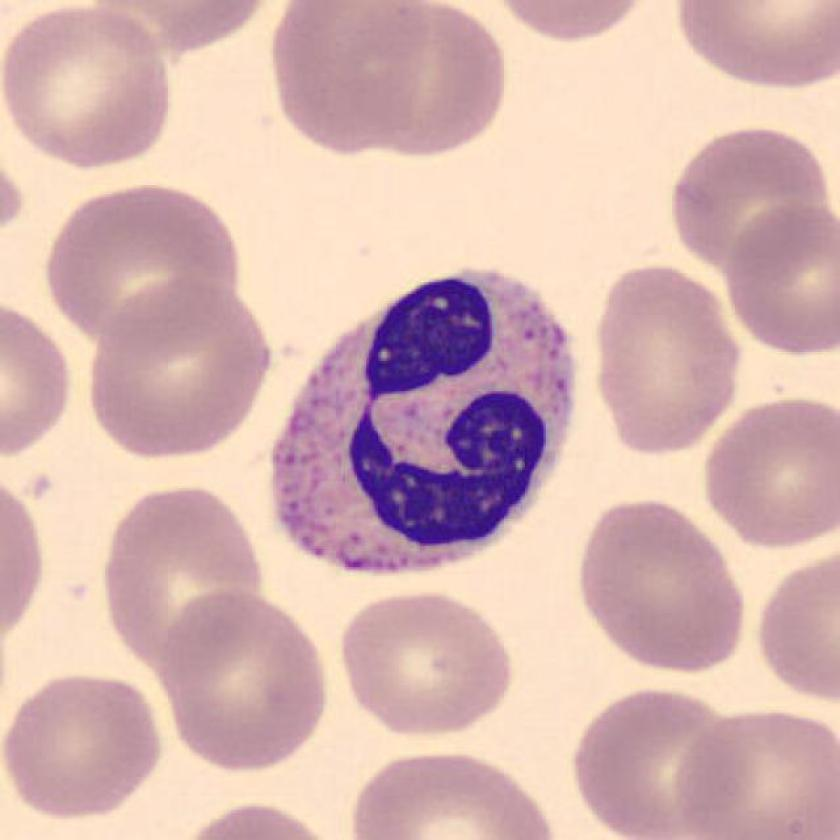neutrophil: (271, 270, 572, 573)
